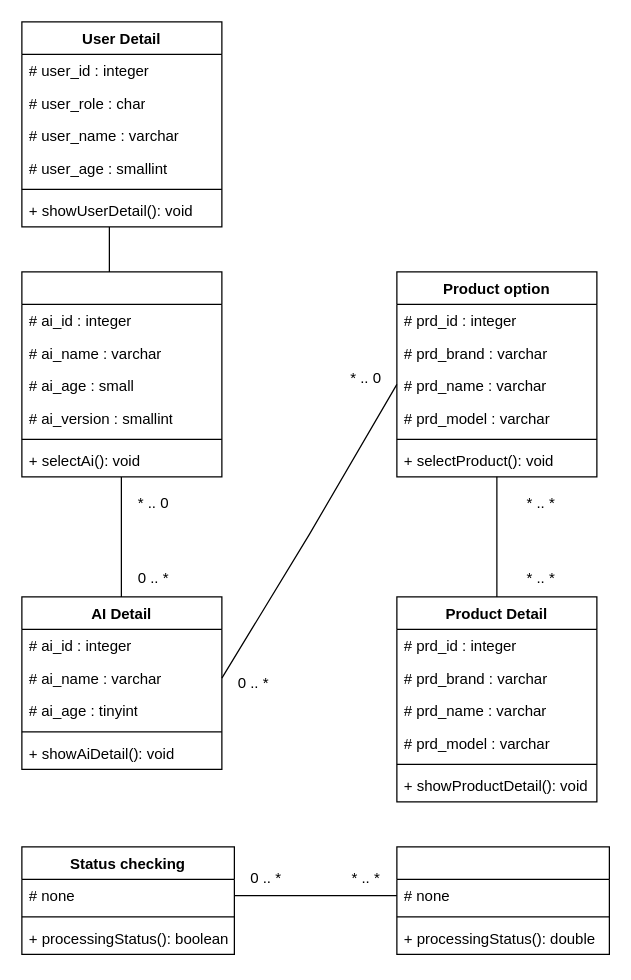
This 631x980 diagram has some shape labels left out. Each missing label, with the box of its shape:
AI options: (21, 271, 222, 477)
Score checking: (396, 846, 609, 954)
